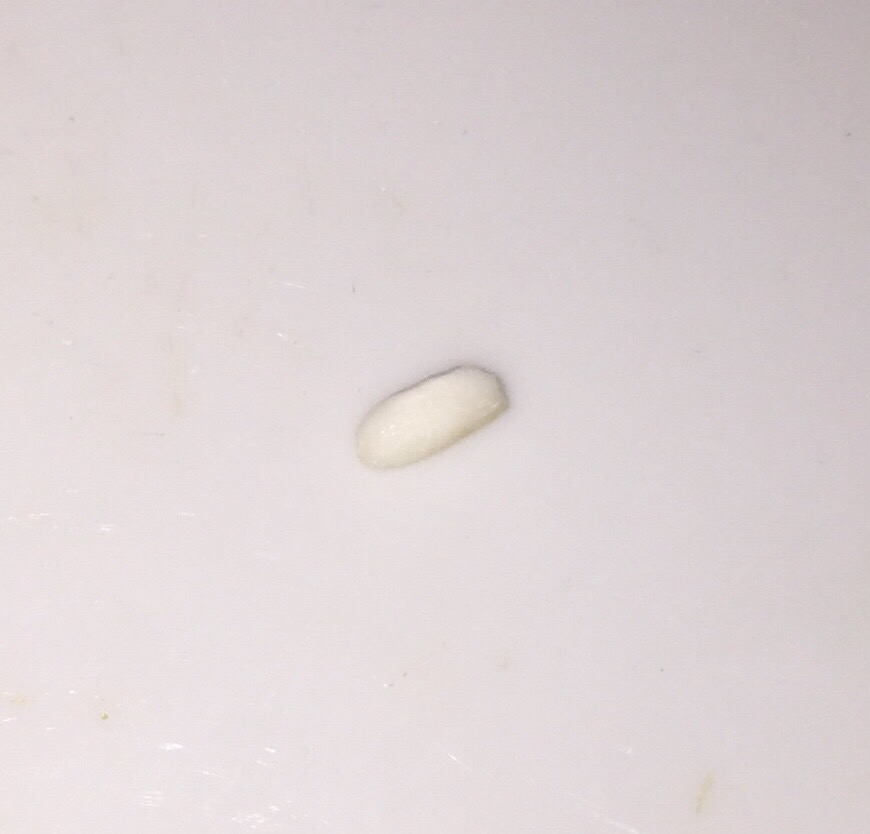Gao Nep Sap: (346, 352, 523, 485)
